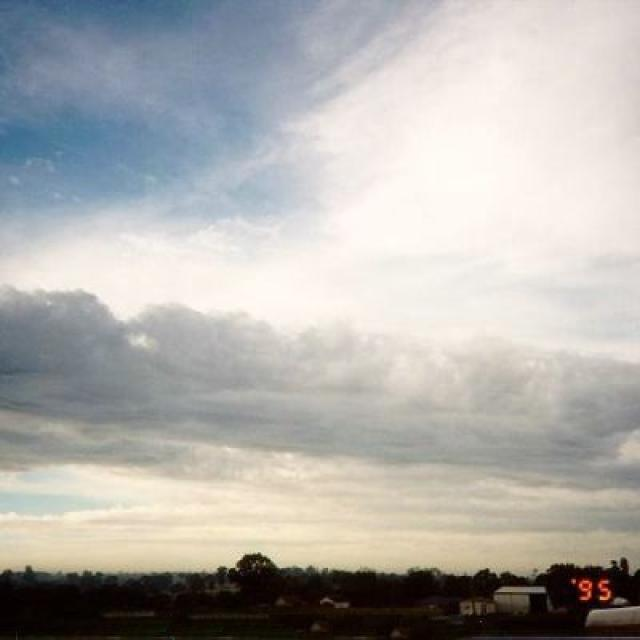Cs: (1, 111, 640, 496)
